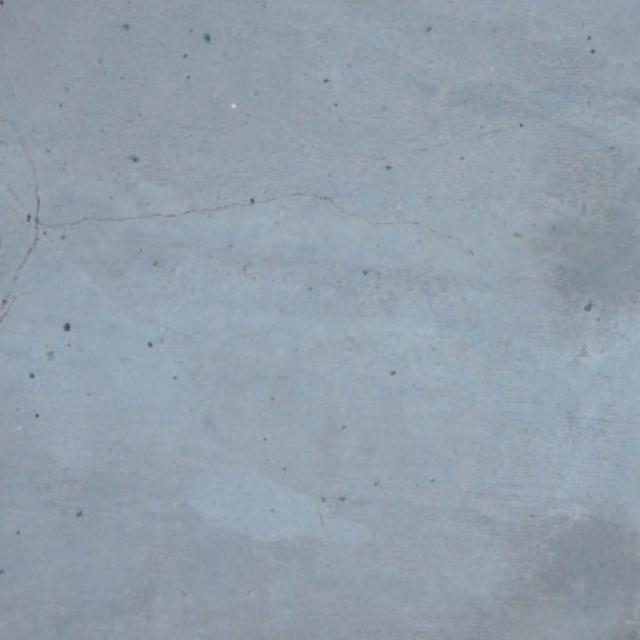Alligator Crack: (0, 118, 474, 327)
